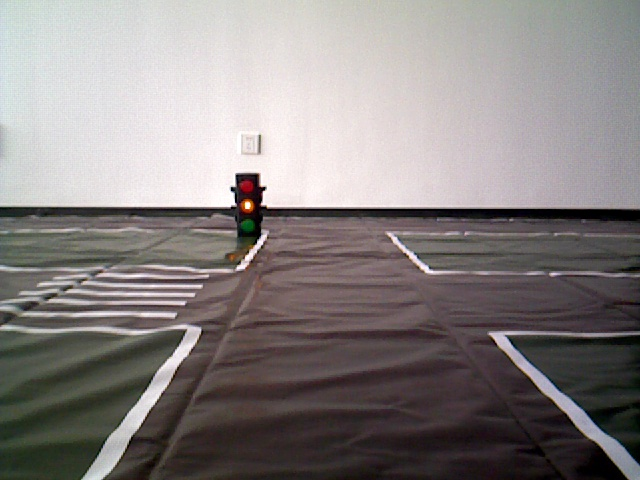yellow: (234, 174, 263, 236)
